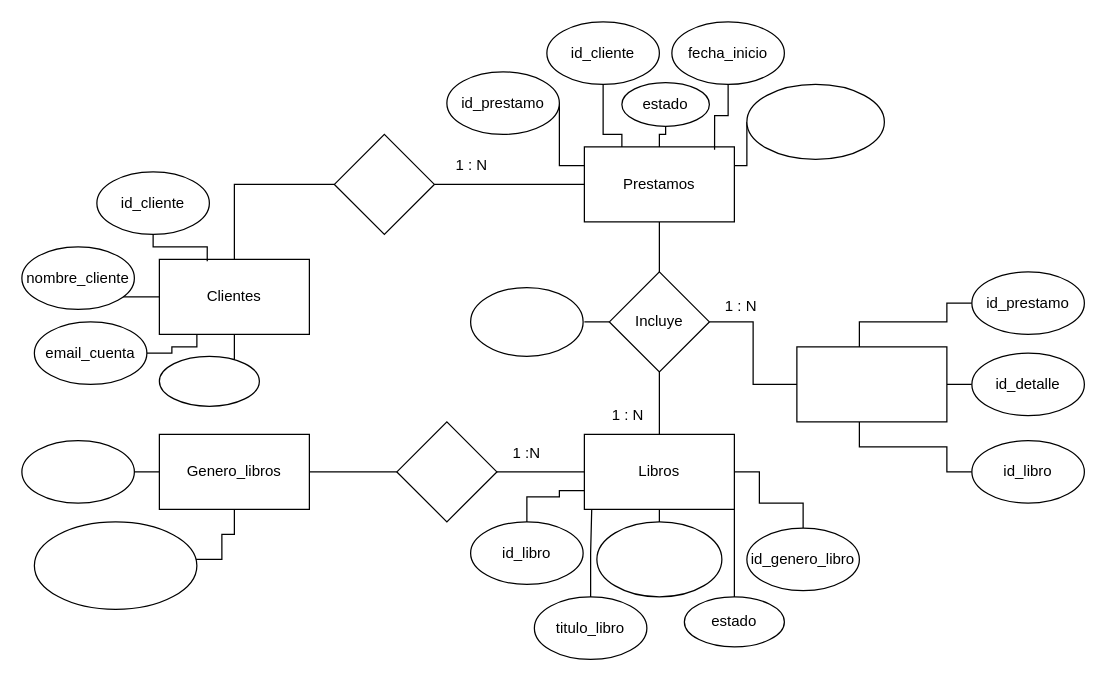
This 1106x681 diagram has some shape labels left out. The shapes that lost their labels are listed below. From the top down, each one's box as (x1, y1, x2, y2) in pixels, then its label:
(746, 83, 884, 159): fecha_devolucion
(333, 133, 434, 234): Realiza
(469, 286, 583, 356): Cantidad
(158, 355, 259, 406): telefono
(796, 346, 947, 422): Detalles_prestamos
(21, 439, 134, 503): id_genero
(396, 421, 497, 522): Pertenece
(33, 521, 197, 609): nombre_genero_libro
(596, 521, 722, 597): anio_publicacion
